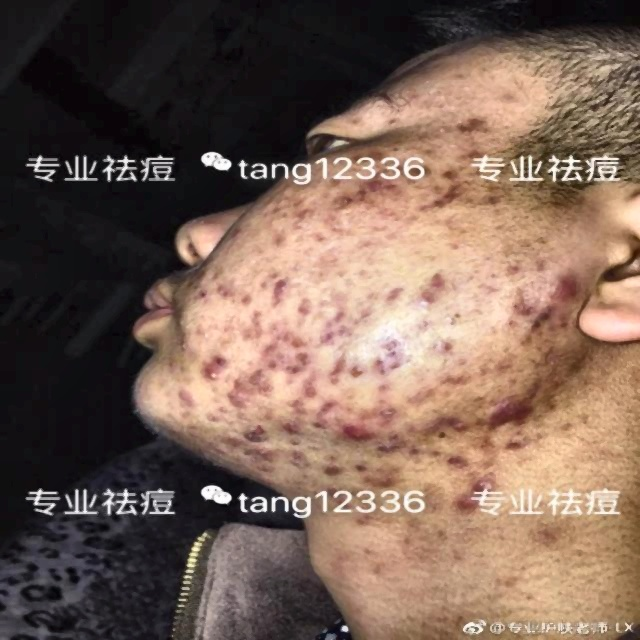nodule: (420, 394, 475, 432), (484, 392, 530, 432), (433, 483, 484, 519), (354, 378, 400, 416), (289, 352, 337, 386), (246, 358, 282, 401), (364, 348, 405, 378), (542, 266, 578, 300), (454, 104, 487, 140), (203, 351, 242, 380), (238, 294, 273, 326), (343, 302, 386, 327), (333, 417, 373, 443), (267, 279, 300, 309), (402, 382, 440, 408), (435, 364, 475, 388), (524, 302, 558, 330), (424, 331, 456, 360), (433, 166, 466, 194), (418, 290, 454, 315), (496, 431, 532, 456), (212, 426, 250, 449), (248, 438, 280, 464), (169, 382, 205, 405), (454, 138, 487, 163), (552, 312, 586, 336), (289, 297, 320, 323), (218, 278, 248, 304), (349, 459, 380, 484), (431, 451, 466, 473), (265, 229, 293, 256), (305, 402, 331, 431), (168, 336, 199, 360), (289, 205, 321, 228), (301, 228, 336, 248), (316, 448, 337, 481), (358, 172, 388, 195), (267, 408, 291, 436), (496, 258, 528, 279), (291, 447, 320, 470), (380, 334, 407, 357), (260, 346, 291, 365), (182, 421, 210, 442), (187, 286, 216, 306), (375, 428, 396, 455), (320, 316, 342, 341), (415, 272, 445, 290), (224, 225, 253, 243), (250, 472, 280, 489), (340, 353, 358, 381), (497, 313, 523, 332), (420, 195, 449, 212), (235, 417, 265, 433), (382, 279, 400, 305), (326, 197, 342, 226), (284, 381, 307, 401), (200, 410, 226, 426), (442, 240, 466, 257), (511, 293, 528, 316), (451, 476, 494, 485), (164, 424, 185, 442), (284, 324, 301, 344), (320, 391, 342, 406), (212, 400, 233, 415), (231, 391, 248, 406)
